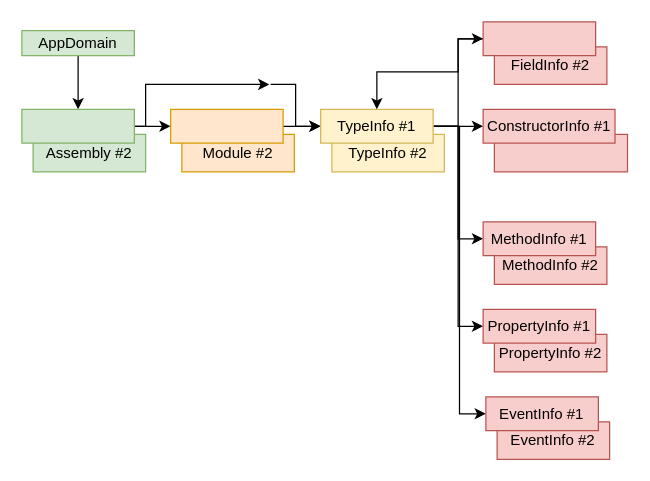
The diagram is 650 pixels wide and 481 high, and some of its shapes have lost their labels. Here are the shapes that lost their labels. From the top down, the centre of each, then its label:
At [539,38]: "FieldInfo #1".
At [77,125]: "Assembly #1".
At [226,125]: "Module #1".
At [560,152]: "ConstructorInfo #2".
